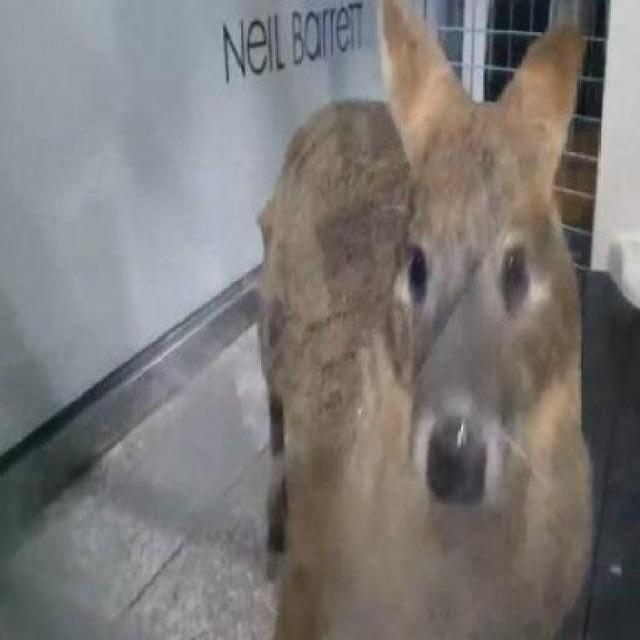deer: (250, 1, 598, 639)
